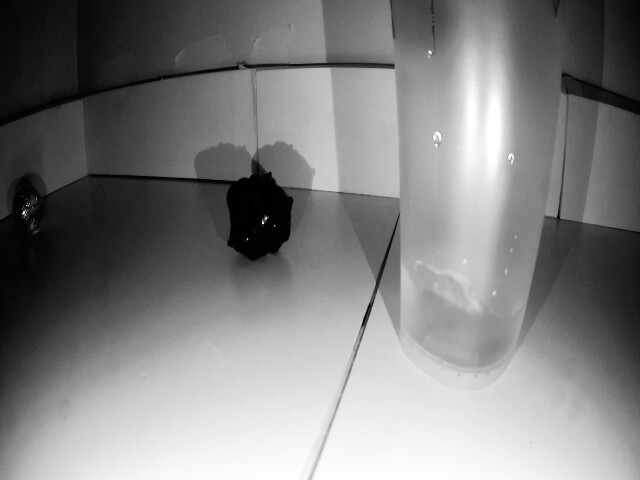black: (217, 171, 293, 267)
silver: (7, 182, 48, 233)
